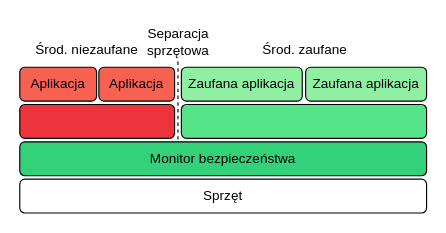
Image size: 446x233. Some labels were removed from this diagram. The box of each missing label's shape, as (x1, y1, x2, y2) in pixels:
System operacyjny: (19, 103, 175, 138)
Zaufany system operacyjny: (180, 103, 427, 138)
